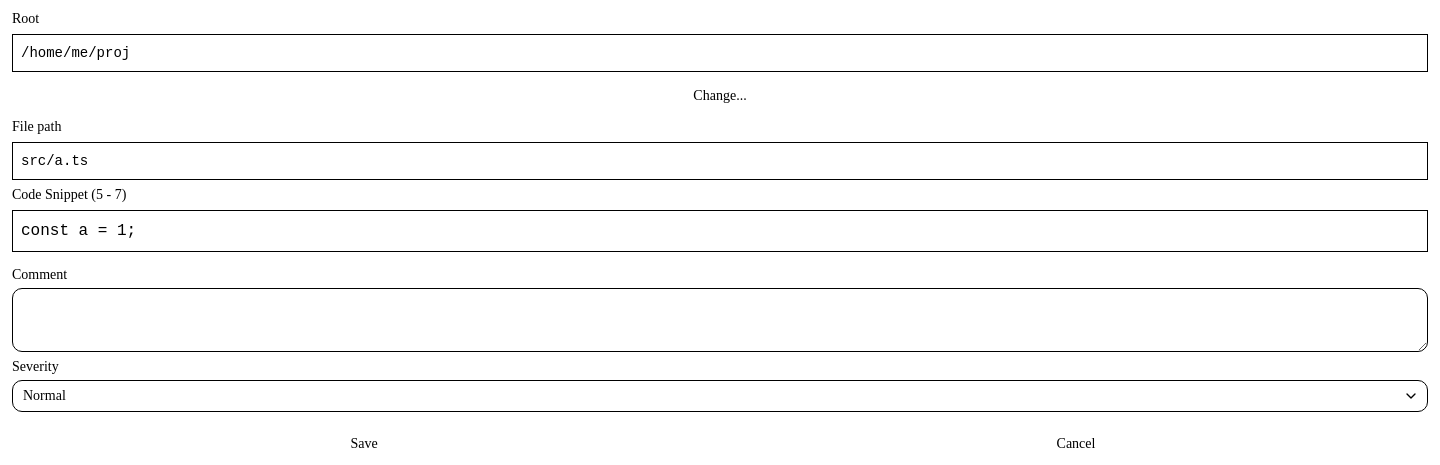
Test case: App › updates root and path on changeRootResult ok without resetting the form
Step 1. Type "keep me" into the text box → (720, 320), box [12,288,1428,352]
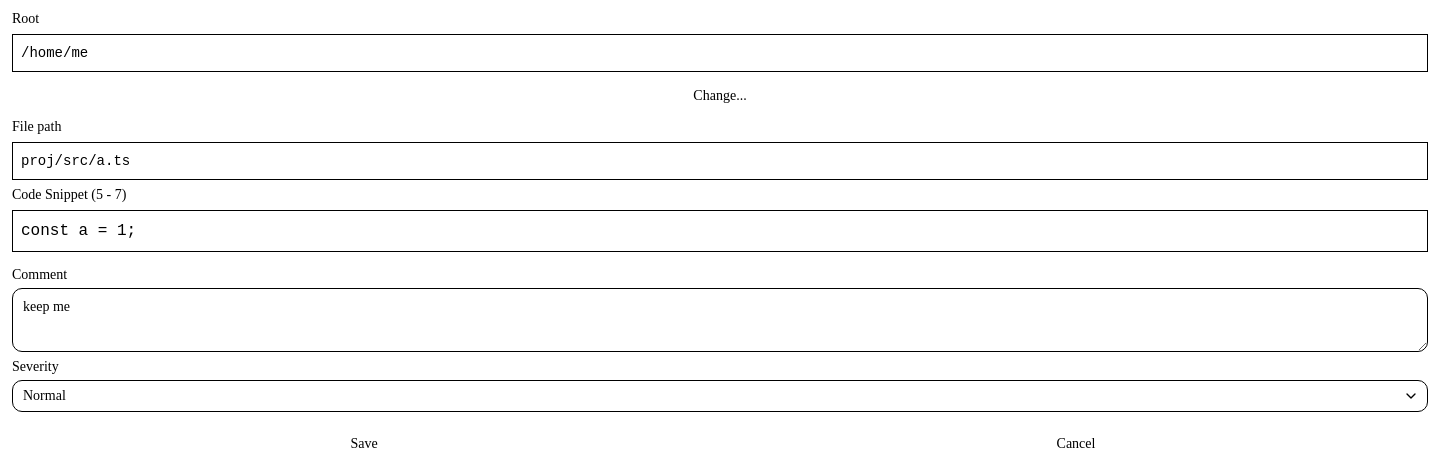
Expected: the text "/home/me" is shown, [12,34,1428,72]
Expected: the text "proj/src/a.ts" is shown, [12,142,1428,180]
Expected: the text "/home/me/proj" is gone
